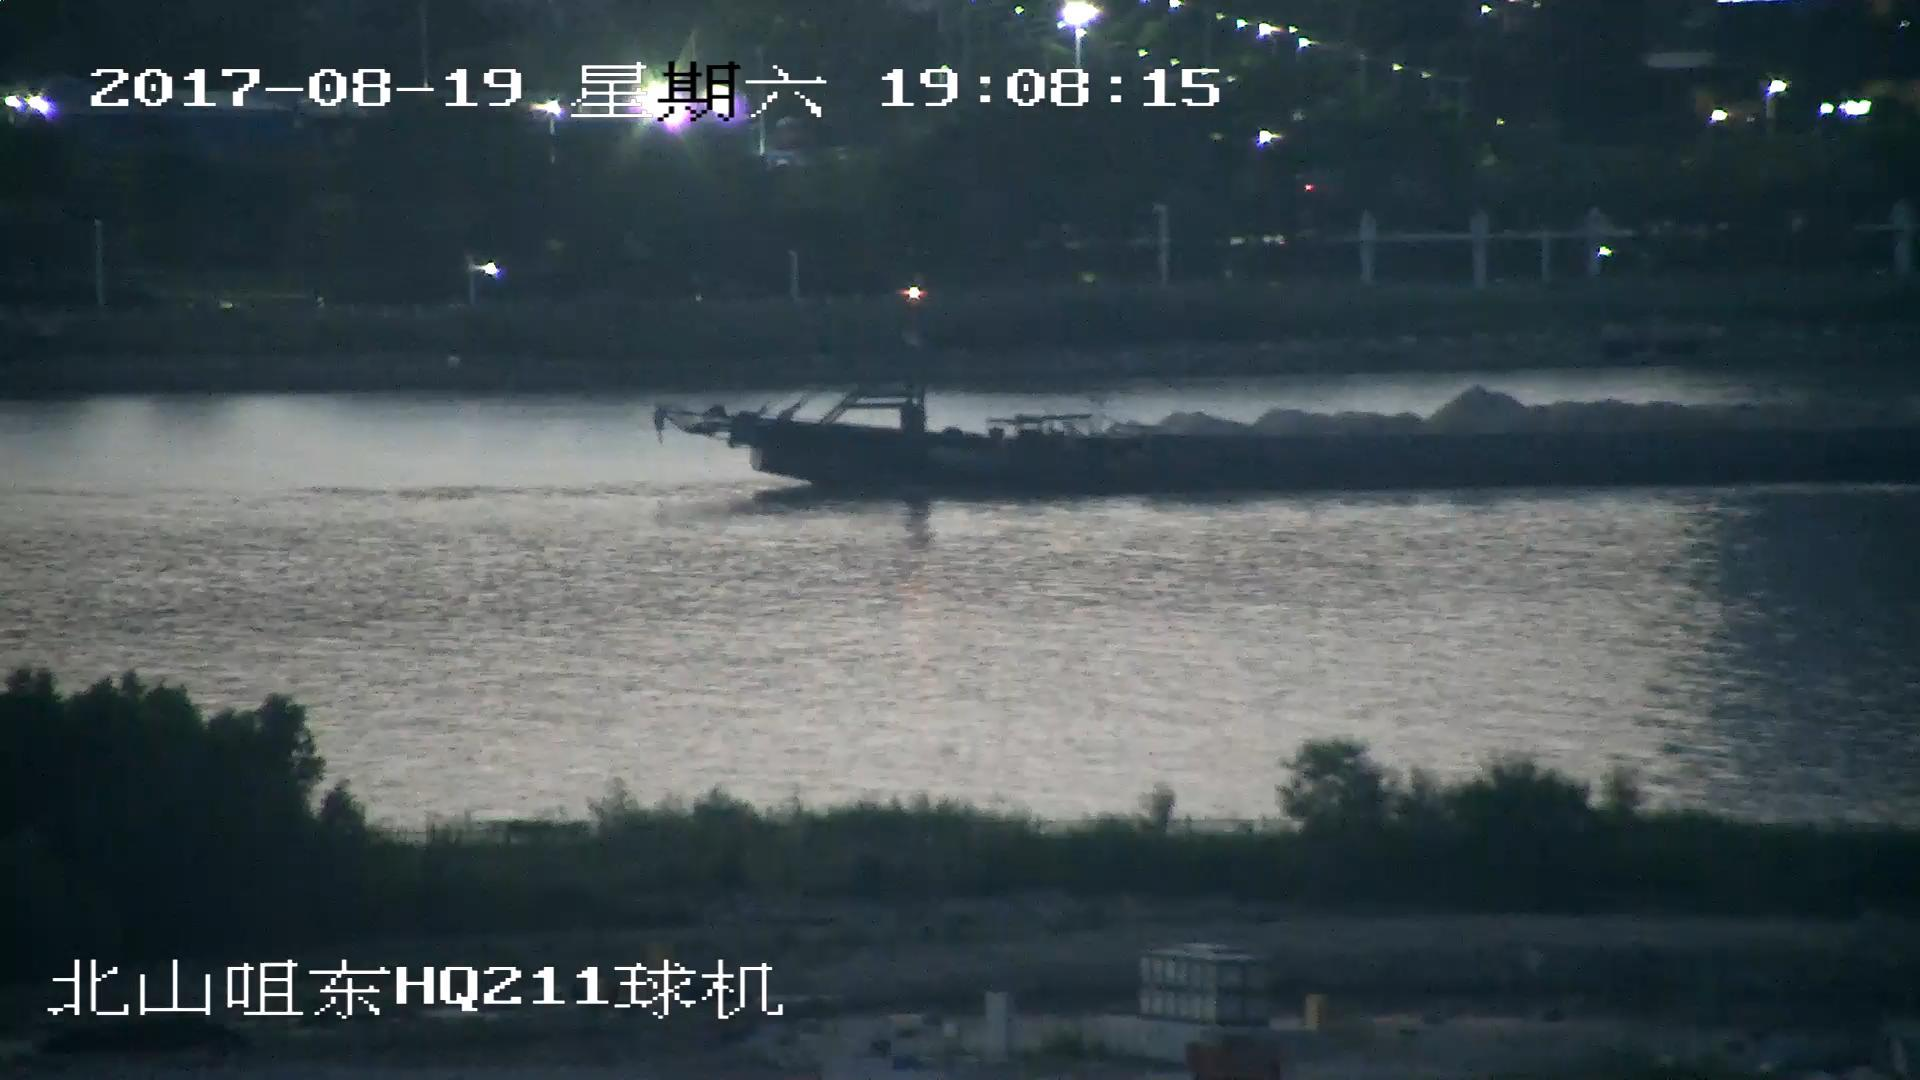Ship: (657, 305, 1920, 504)
